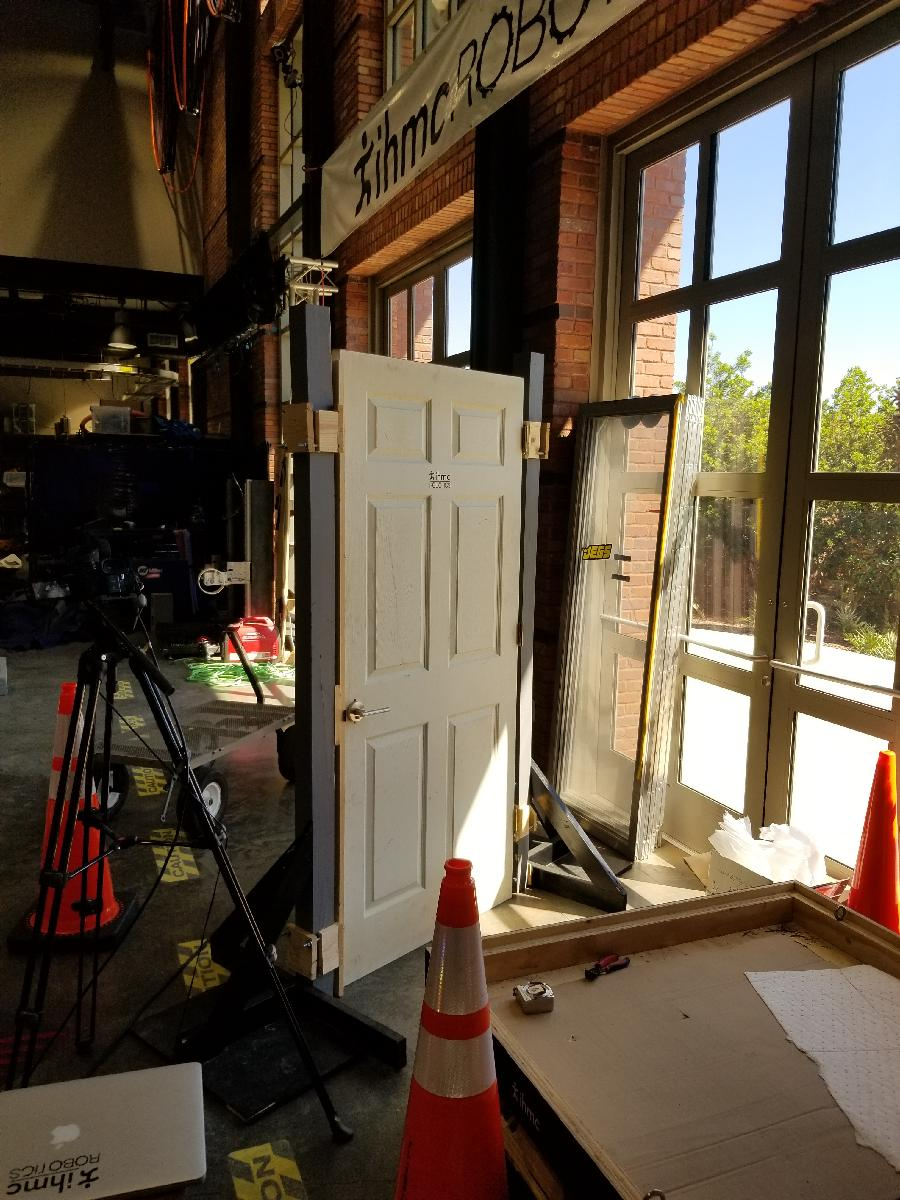door: (331, 344, 529, 994)
doorHandle: (343, 696, 397, 729)
